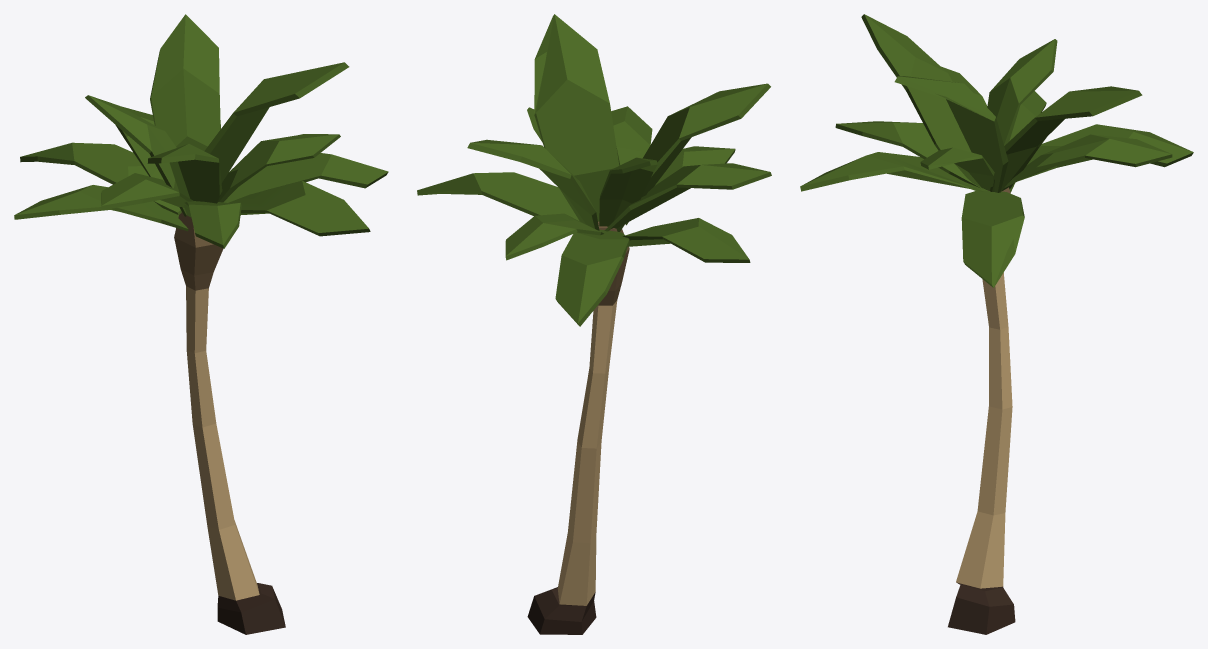
File: island_palm_2.fbx
3 views of the same model, side by side, from view 1: azimuth 30°, elevation 25°; view 2: azimuth 150°, elevation 25°; view 3: azimuth 270°, elevation 25° (orthographic).
Visible parts, largest first — view 1: palm1; view 2: palm1; view 3: palm1.
Boxes of the visible parts, x1,y1,x2,y2 form: palm1: [14, 14, 388, 634]; palm1: [417, 14, 771, 634]; palm1: [800, 14, 1193, 634].
Size of the model in its own units: 429 by 662 by 416.
